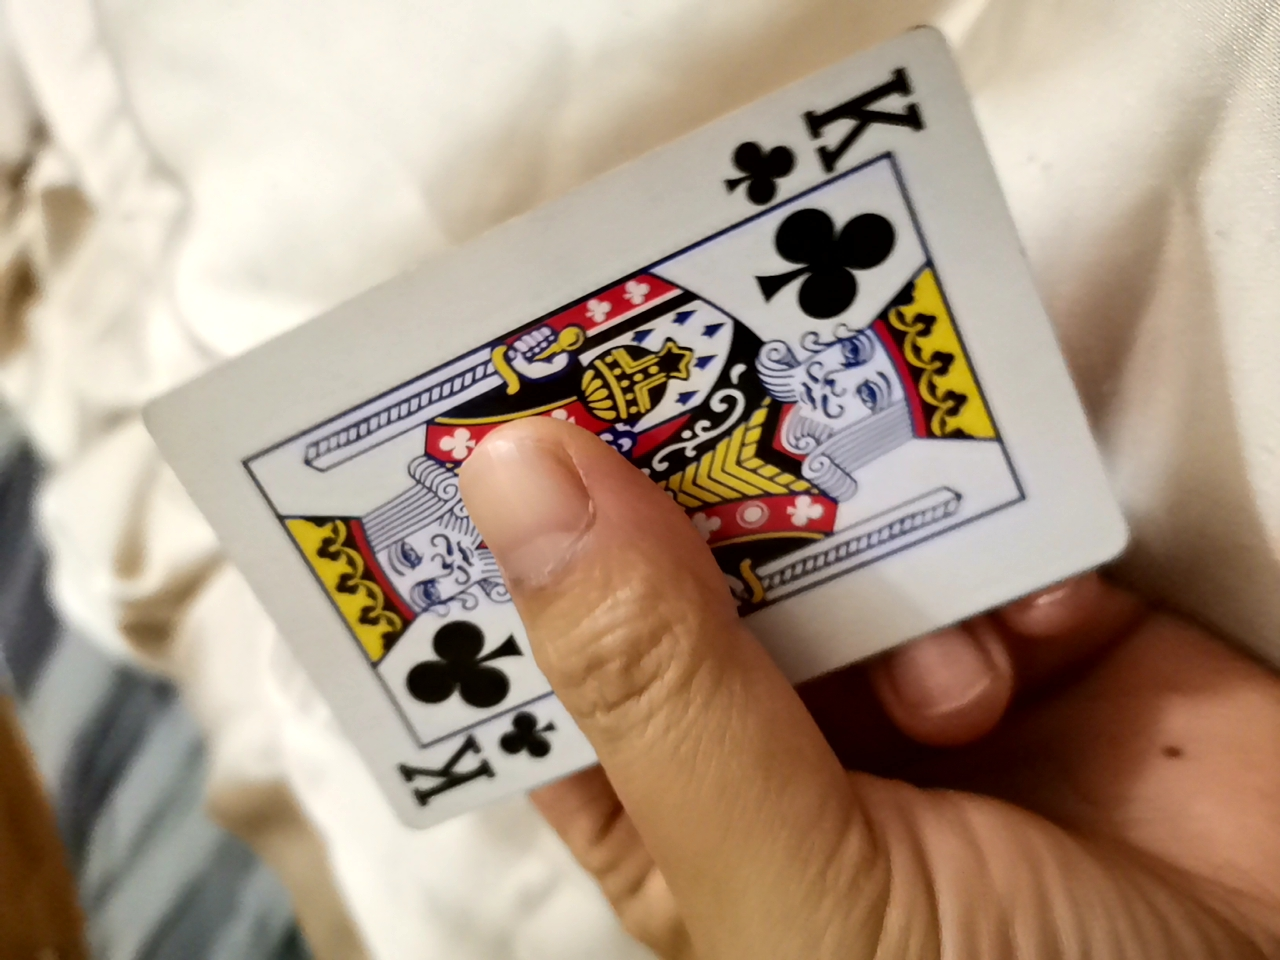mh k: (208, 26, 1133, 825)
